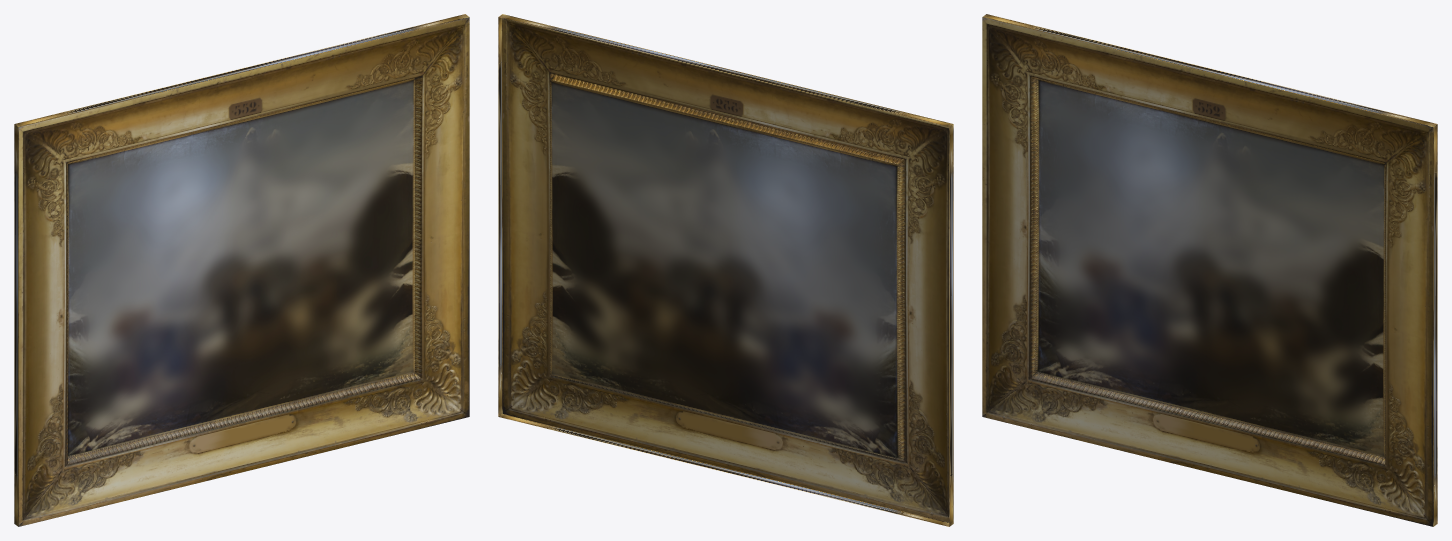
File: Cuadro_mediano.FBX
The picture shows the model from 3 angles, left to right: view 1: azimuth 30°, elevation 25°; view 2: azimuth 150°, elevation 25°; view 3: azimuth 330°, elevation 25°; orthographic projection.
Visible parts, largest first — view 1: marco_mediano; view 2: marco_mediano; view 3: marco_mediano.
Part boxes in pixels (bbox=[...]): marco_mediano: bbox=[14, 14, 469, 526]; marco_mediano: bbox=[498, 14, 953, 526]; marco_mediano: bbox=[982, 14, 1437, 526].
Size of the model in its own units: 300 by 5 by 254.
